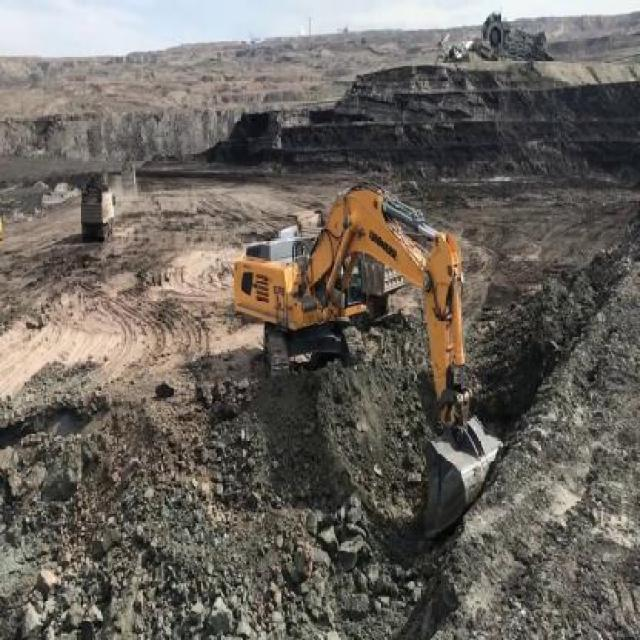Dump Truck: (78, 185, 114, 241)
Excavator: (232, 182, 503, 536)
